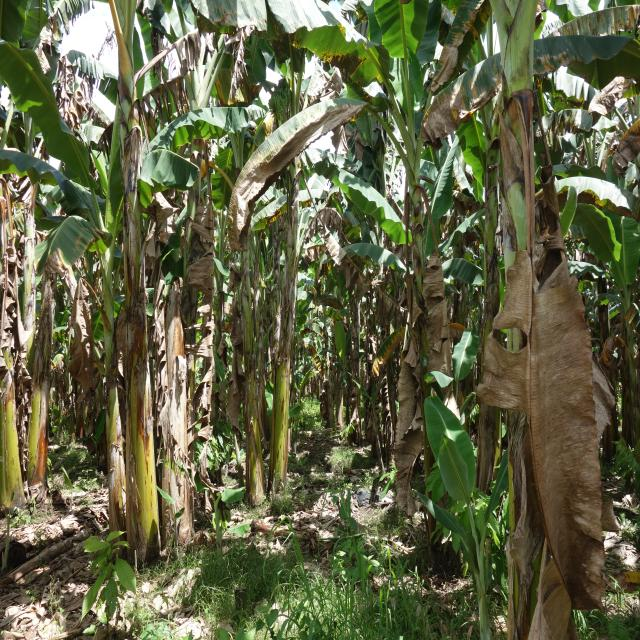Banana-plant: (487, 9, 550, 640), (384, 138, 442, 558), (115, 80, 164, 559), (231, 227, 268, 509), (92, 278, 128, 539), (277, 221, 303, 487)
